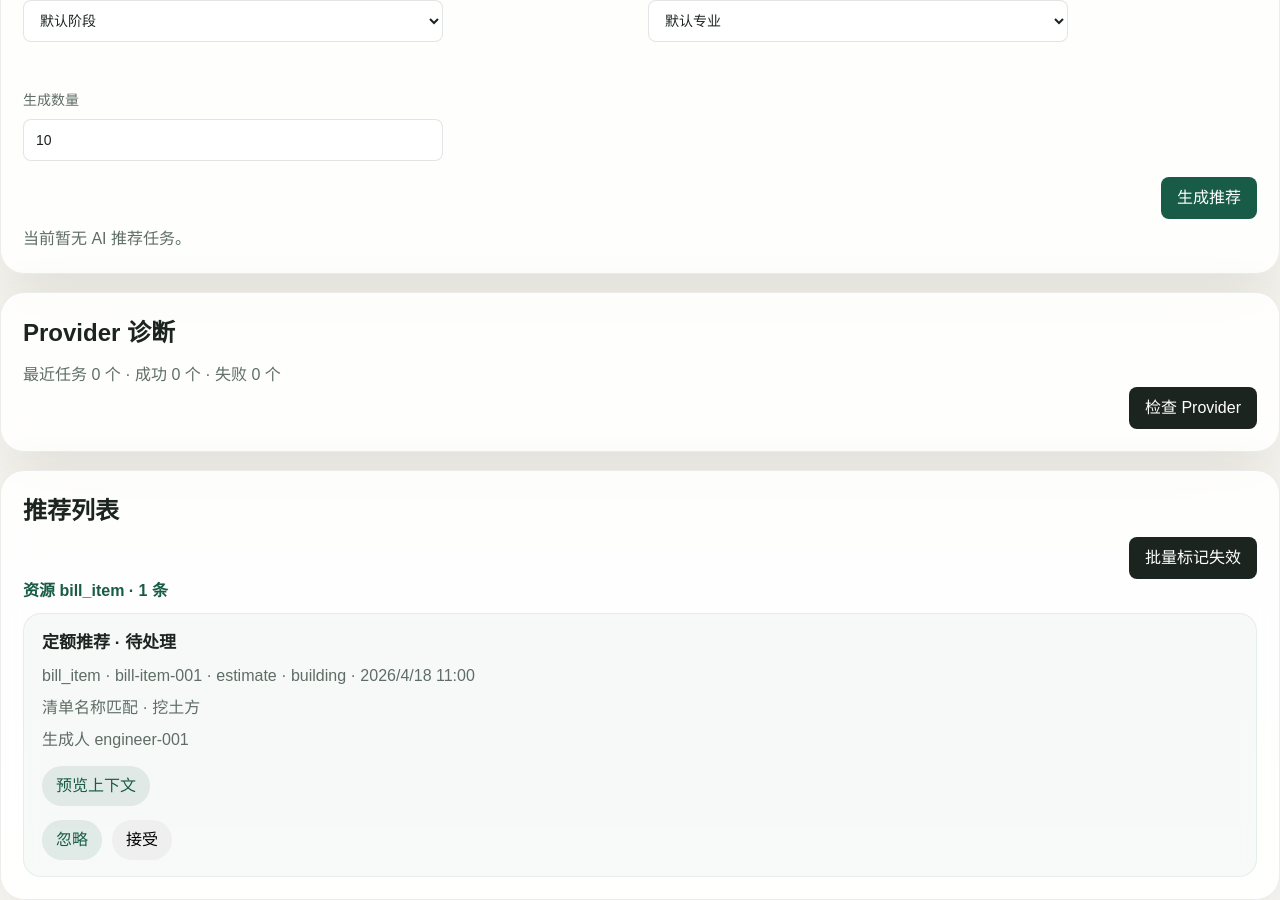
Test: ProjectAiRecommendationsPage › removes handled recommendation from generated status filter
(page scrolled)
Check: the heading "定额推荐 · 待处理" is shown, box 42,633 -> 176,652
Click the button "忽略" at (72, 840), box 42,820 -> 102,860
(page scrolled)
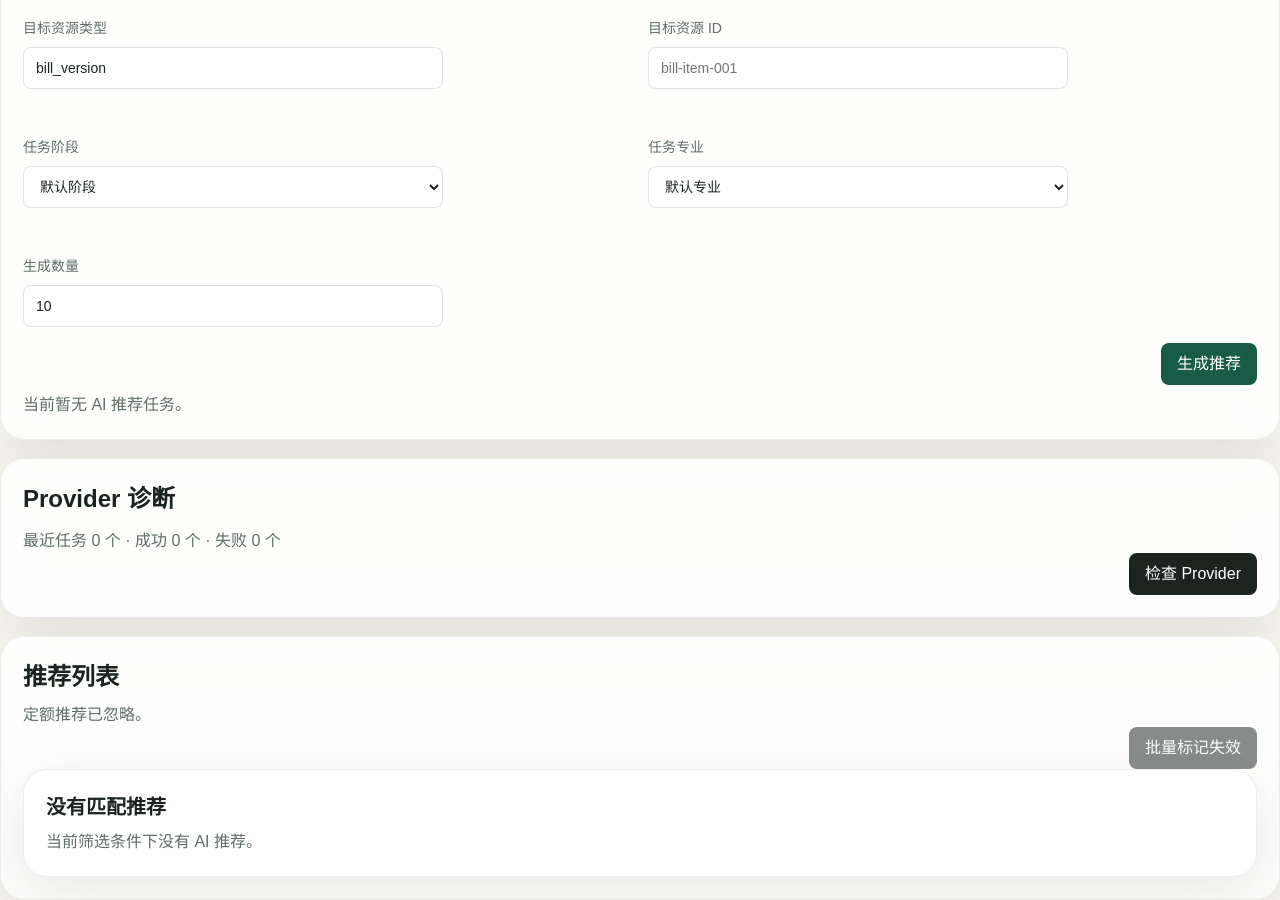
Check: the text "定额推荐已忽略。" is shown, box 23,706 -> 151,723
Check: the heading "没有匹配推荐" is shown, box 46,796 -> 166,818
